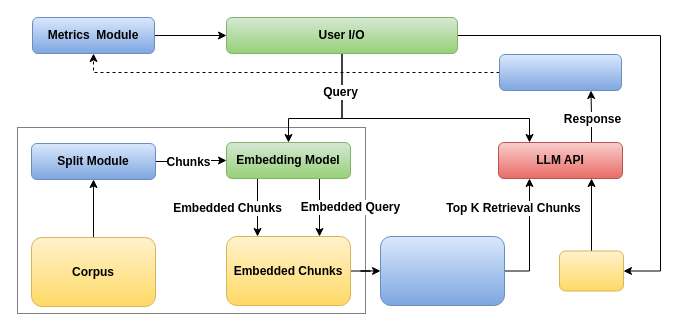
Some shapes in this 686 by 331 pixel diagram are drawn without their labels. The shapes that lost their labels are listed below. From the top down, each one's centre as x and y in pixels, then its label:
(x=560, y=72): Reranking Module
(x=442, y=271): Retrieval Module
(x=591, y=270): Prompt
